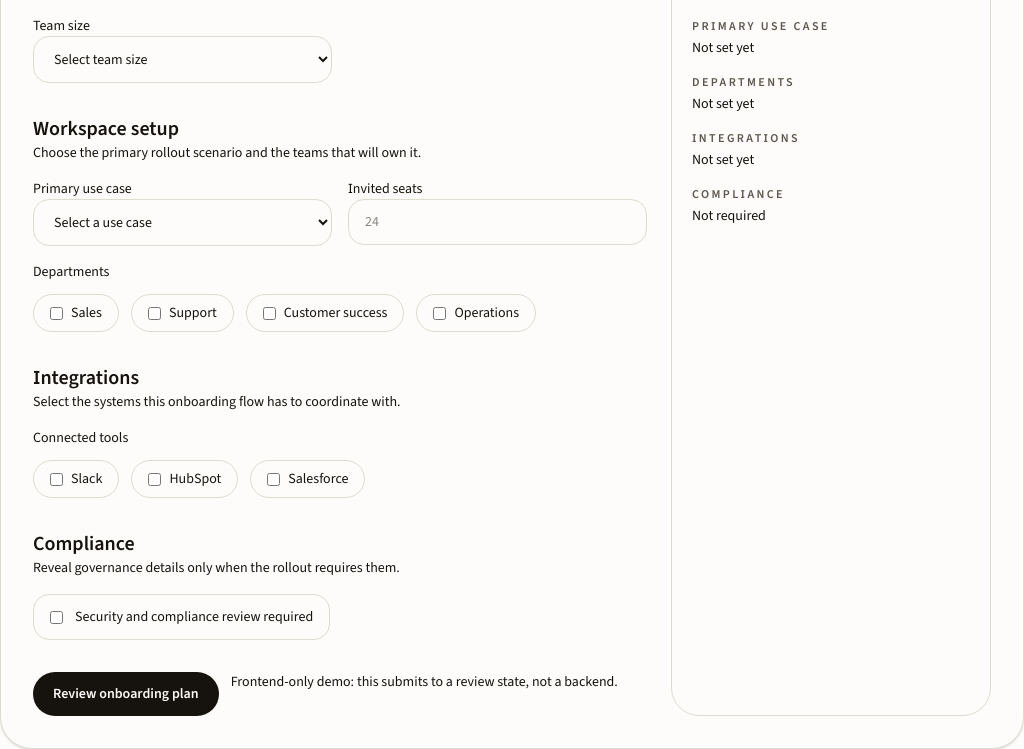
Test case: WorkspaceOnboardingDemo › reveals integration-specific fields only when integrations are selected
(page scrolled)
Click the checkbox labelled "Slack": (56, 479) [50, 472, 63, 486]
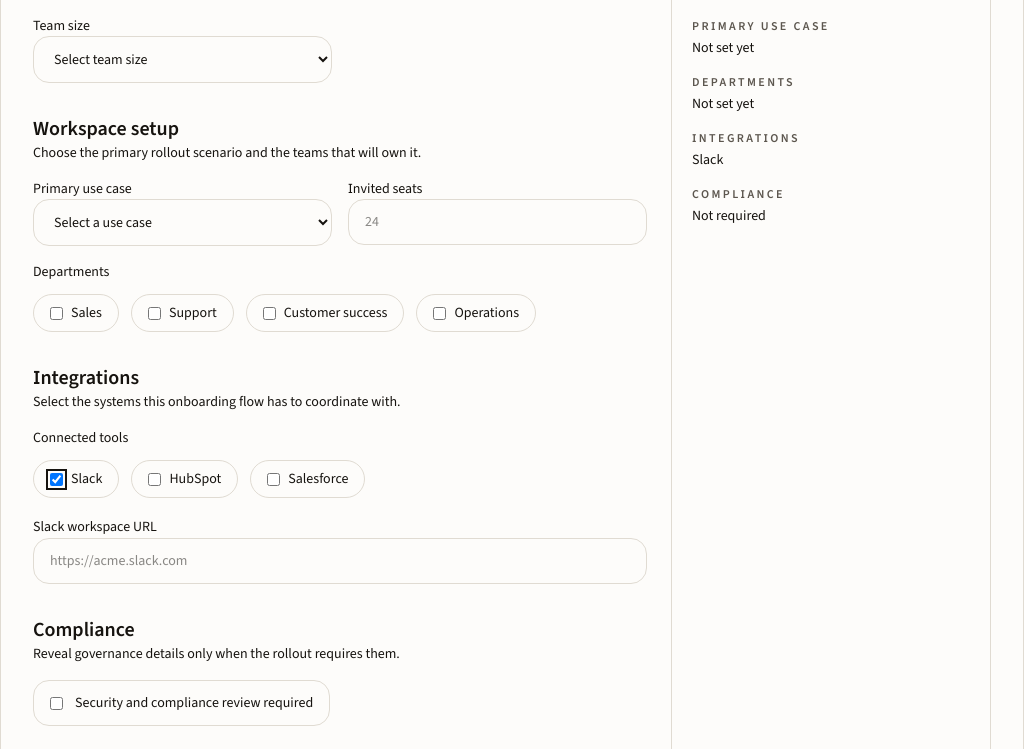
Click the checkbox labelled "HubSpot": (155, 479) [148, 472, 161, 486]
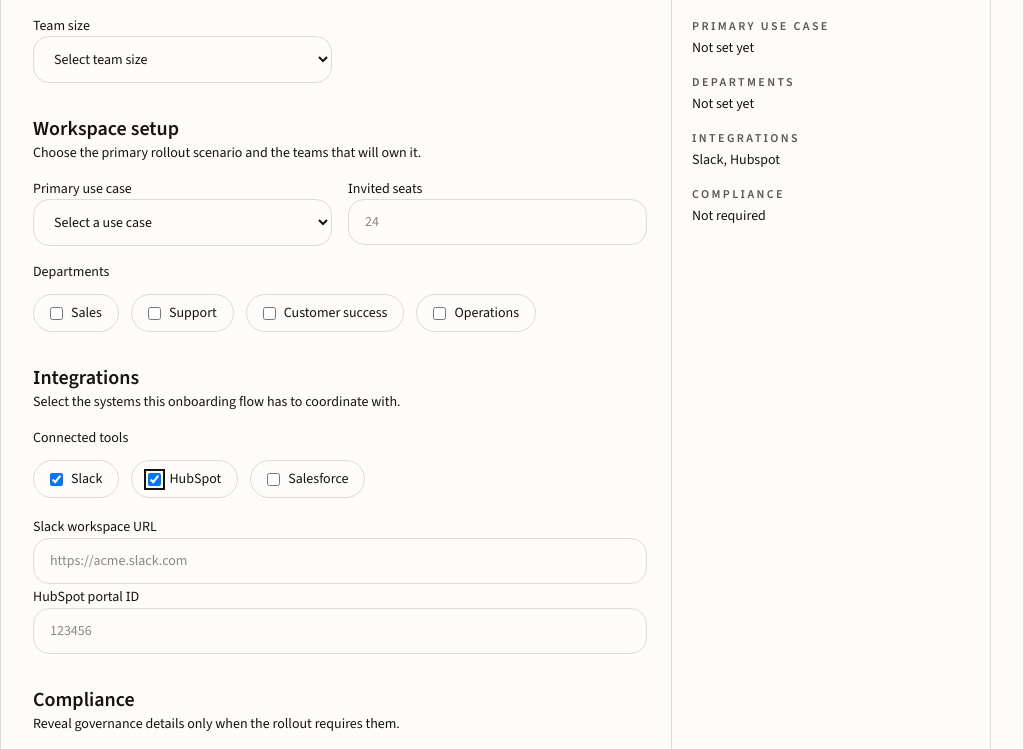
Check: the field labelled "Slack workspace URL" is shown, box [33, 538, 647, 584]
Check: the field labelled "HubSpot portal ID" is shown, box [33, 608, 647, 654]
